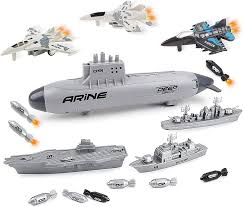Ship: (5, 141, 126, 173), (132, 142, 207, 173), (162, 105, 242, 128)
Submarine: (29, 59, 220, 112)
